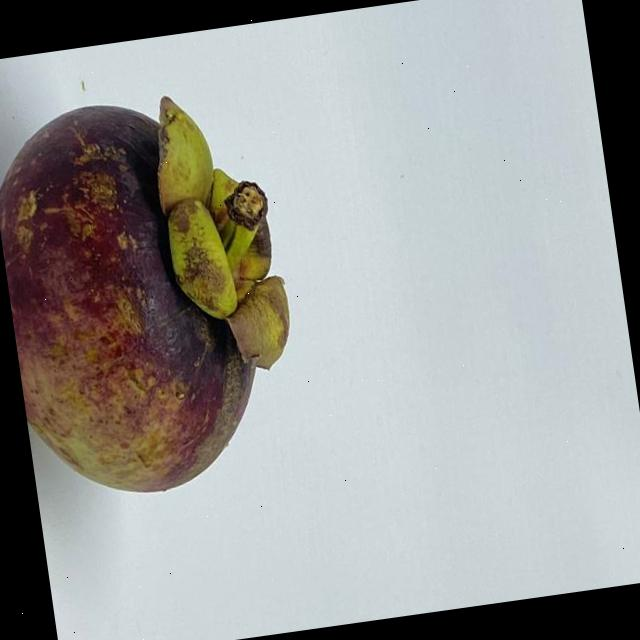mangosteen: (0, 58, 358, 528)
